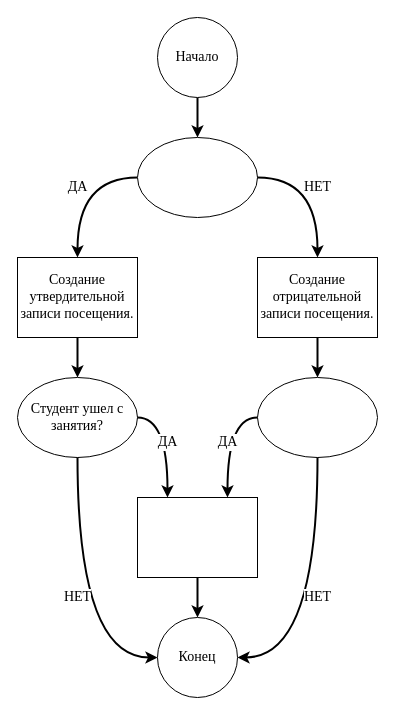
Some shapes in this 395 by 715 pixel diagram are drawn without their labels. Here are the shapes that lost their labels. From the top down, the centre of each, then its label:
At pixel 197 177: "Студент пришел на занятие?".
At pixel 317 417: "Студент пришел во время занятия?".
At pixel 197 537: "Изменение и комментирование записи посещения.".
